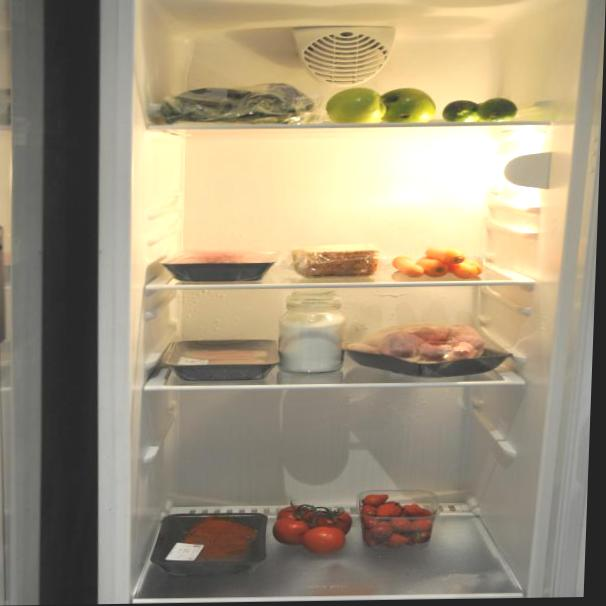apple: (327, 80, 437, 129)
carrots: (390, 241, 493, 280)
chicken: (351, 309, 516, 381)
lime: (443, 92, 516, 123)
meat: (154, 503, 272, 580), (166, 332, 277, 385), (163, 244, 275, 286)
spinach: (161, 73, 315, 129)
tomatoes: (348, 480, 447, 553), (268, 489, 358, 560)
